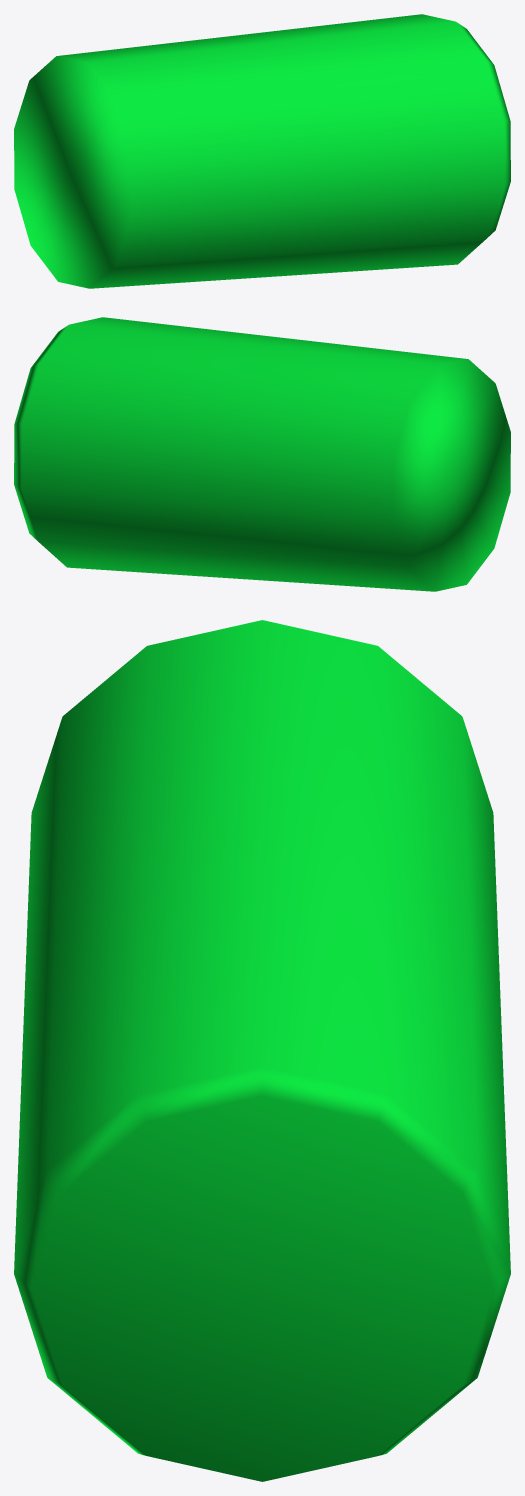
The model's file is Plunger_Box_Cylinder.fbx.
3 views of the same model, one above another, from view 1: azimuth 30°, elevation 25°; view 2: azimuth 150°, elevation 25°; view 3: azimuth 270°, elevation 25° (orthographic). The views are drawn at different scales.
Parts seen in each view (by area): view 1: Plunger_Box_Cylinder; view 2: Plunger_Box_Cylinder; view 3: Plunger_Box_Cylinder.
Boxes of the visible parts, left/top/right/bottom form: Plunger_Box_Cylinder: left=14, top=14, right=510, bottom=288; Plunger_Box_Cylinder: left=14, top=317, right=510, bottom=591; Plunger_Box_Cylinder: left=14, top=620, right=510, bottom=1481.
Size of the model in its own units: 3.54 by 2.29 by 1.91.
